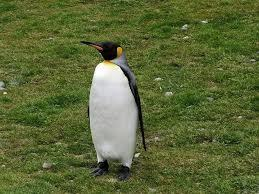king: (70, 30, 157, 183)
